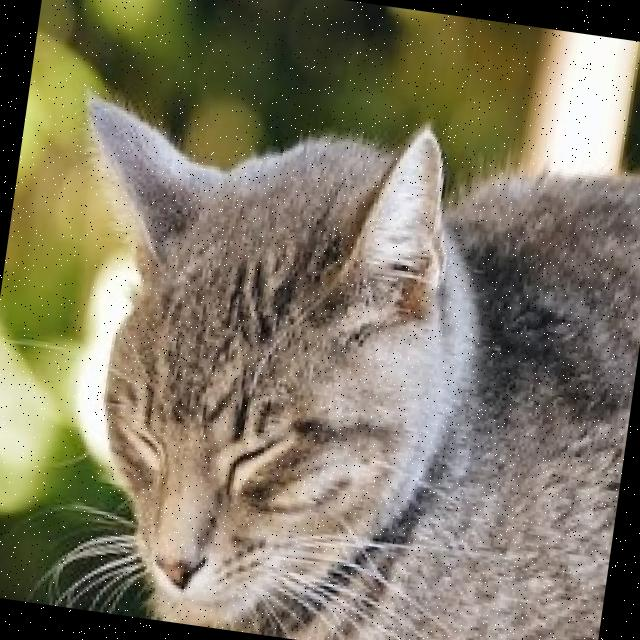Sad: (40, 325, 378, 640)
